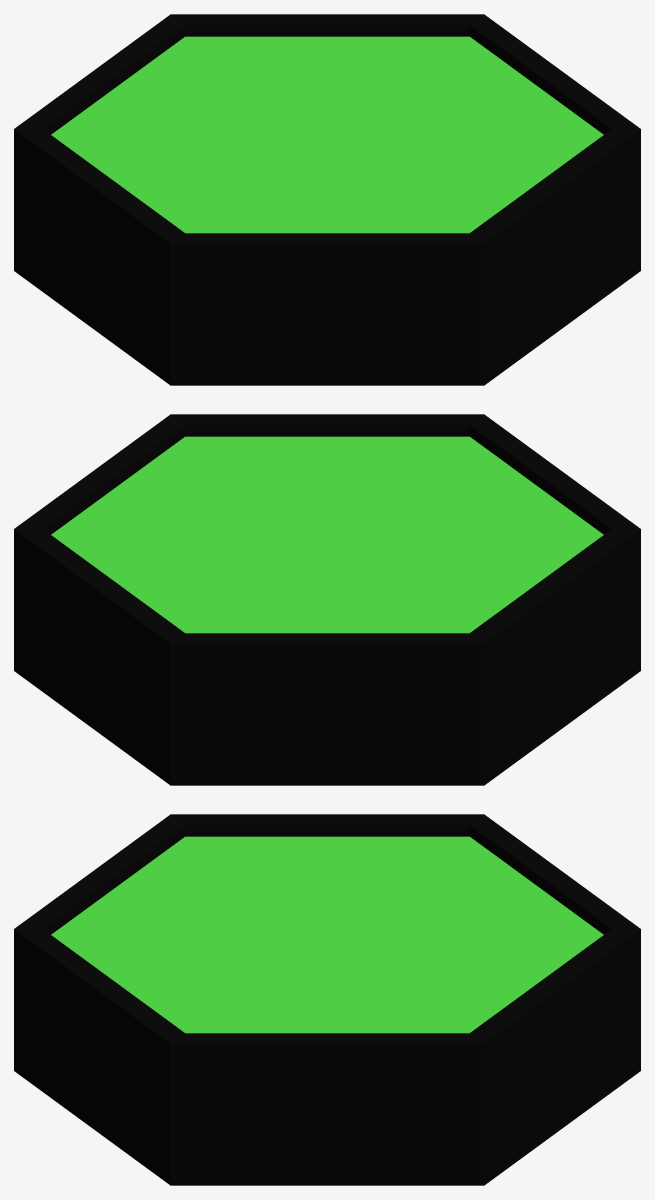
File: hex-tile.glb
3 renders of one model, top to bottom at view 1: azimuth 30°, elevation 25°; view 2: azimuth 150°, elevation 25°; view 3: azimuth 270°, elevation 25°, orthographic.
Visible parts, largest first — view 1: Circle; view 2: Circle; view 3: Circle.
Part boxes in pixels (x1,y1,x2,y2): Circle: [14, 14, 640, 385]; Circle: [14, 414, 640, 785]; Circle: [14, 814, 640, 1185].
Bounding box in the file's own units: 1.73 × 0.4996 × 2.
